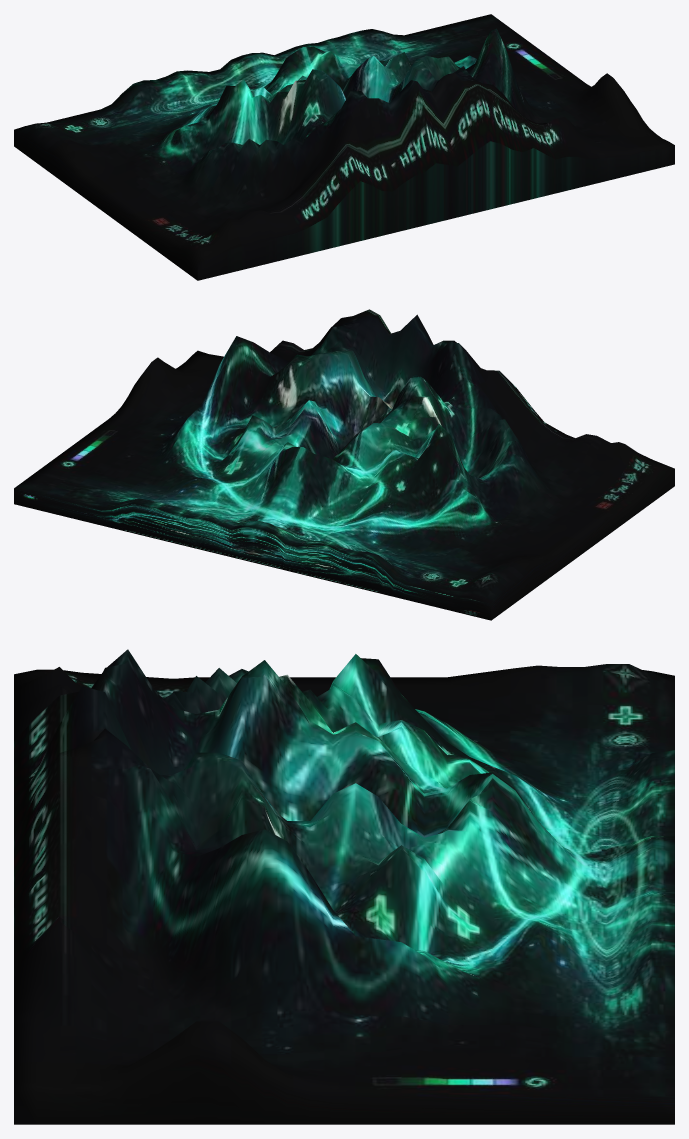
Rendered from MAGIC_Aura_01_Healing.glb.
3 views of the same model, one above another, from view 1: azimuth 30°, elevation 25°; view 2: azimuth 150°, elevation 25°; view 3: azimuth 270°, elevation 25° (orthographic). The views are drawn at different scales.
Visible parts, largest first — view 1: MAGIC_Aura_01_Healing; view 2: MAGIC_Aura_01_Healing; view 3: MAGIC_Aura_01_Healing.
Boxes of the visible parts, x1,y1,x2,y2 form: MAGIC_Aura_01_Healing: (14, 14, 674, 280); MAGIC_Aura_01_Healing: (14, 309, 674, 620); MAGIC_Aura_01_Healing: (14, 649, 674, 1124).
Size of the model in its own units: 2 by 0.51 by 1.33.
1 material, 1 textured.
